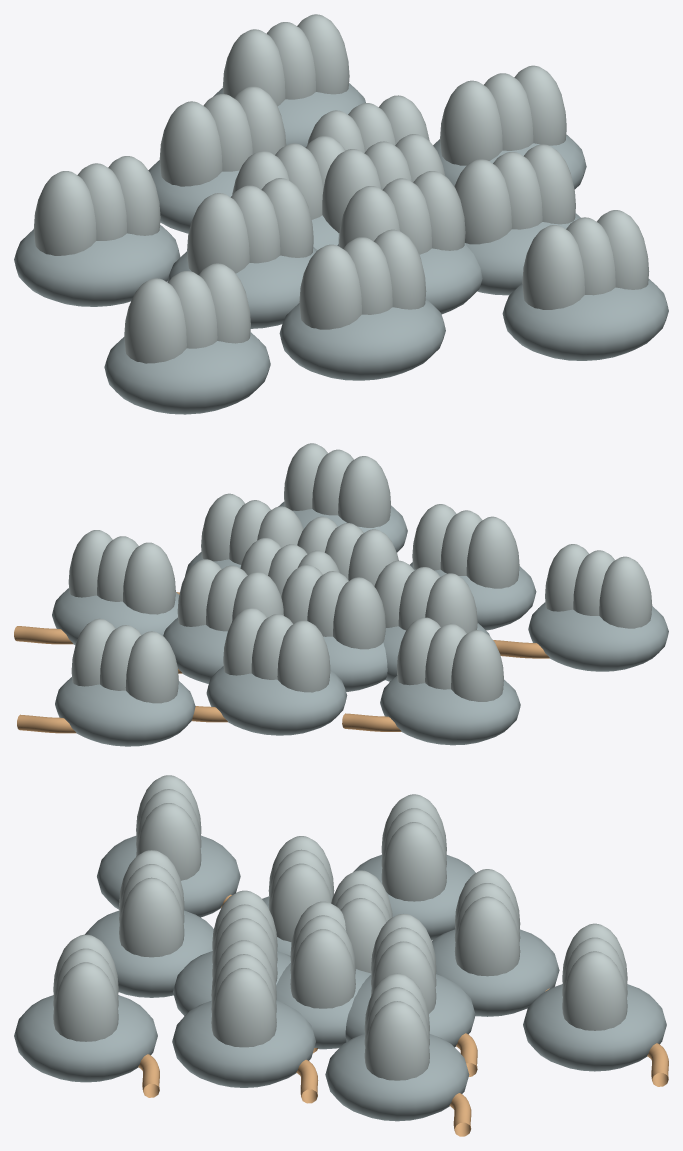
Rendered from bio_acid_mat_16_near.glb.
3 views of the same model, one above another, from view 1: azimuth 30°, elevation 25°; view 2: azimuth 150°, elevation 25°; view 3: azimuth 270°, elevation 25° (orthographic). The views are drawn at different scales.
Parts seen in each view (by area): view 1: Reaction vesicle.021, Reaction vesicle.036, Reaction vesicle.030, Reaction vesicle.027, Reaction vesicle.024, Microbial cushion.007, Microbial cushion.010, Microbial cushion.012, Reaction vesicle.012, Reaction vesicle.018, Reaction vesicle.015, Microbial cushion.009 (+12 smaller); view 2: Reaction vesicle.033, Reaction vesicle.024, Reaction vesicle.018, Reaction vesicle.036, Reaction vesicle.027, Reaction vesicle.030, Reaction vesicle.021, Microbial cushion.009, Microbial cushion.011, Microbial cushion.012, Microbial cushion.006, Reaction vesicle.003 (+16 smaller); view 3: Microbial cushion.011, Microbial cushion.010, Microbial cushion.008, Microbial cushion.005, Reaction vesicle.015, Reaction vesicle.030, Reaction vesicle.033, Reaction vesicle.024, Reaction vesicle.021, Reaction vesicle.027, Reaction vesicle.018, Reaction vesicle (+17 smaller).
Part boxes in pixels (x1,y1,x2,y2): Reaction vesicle.021: (299, 229, 426, 329); Reaction vesicle.036: (124, 263, 250, 363); Reaction vesicle.030: (522, 210, 649, 309); Reaction vesicle.027: (33, 156, 160, 255); Reaction vesicle.024: (440, 65, 566, 165); Microbial cushion.007: (279, 298, 445, 380); Microbial cushion.010: (502, 279, 668, 360); Microbial cushion.012: (104, 332, 270, 414); Reaction vesicle.012: (187, 178, 313, 274); Reaction vesicle.018: (159, 86, 286, 186); Reaction vesicle.015: (454, 144, 575, 244); Microbial cushion.009: (14, 224, 180, 306); Reaction vesicle.033: (71, 618, 178, 703); Reaction vesicle.024: (68, 530, 175, 614); Reaction vesicle.018: (223, 608, 330, 692); Reaction vesicle.036: (545, 544, 652, 628); Reaction vesicle.027: (396, 617, 503, 701); Reaction vesicle.030: (284, 443, 390, 527); Reaction vesicle.021: (412, 504, 519, 588); Microbial cushion.009: (380, 676, 520, 745); Microbial cushion.011: (55, 677, 195, 746); Microbial cushion.012: (528, 602, 668, 671); Microbial cushion.006: (206, 666, 347, 735); Reaction vesicle.003: (281, 564, 385, 649); Microbial cushion.011: (523, 984, 666, 1071); Microbial cushion.010: (14, 995, 157, 1082); Microbial cushion.008: (325, 1034, 469, 1121); Microbial cushion.005: (172, 1000, 315, 1087); Reaction vesicle.015: (211, 940, 276, 1047); Reaction vesicle.030: (53, 934, 118, 1041); Reaction vesicle.033: (562, 923, 627, 1030); Reaction vesicle.024: (364, 973, 429, 1080); Reaction vesicle.021: (119, 850, 184, 957); Reaction vesicle.027: (381, 794, 446, 901); Reaction vesicle.018: (454, 869, 520, 976); Reaction vesicle: (290, 901, 355, 1008).
Size of the model in its own units: 1.97 by 0.4 by 2.
